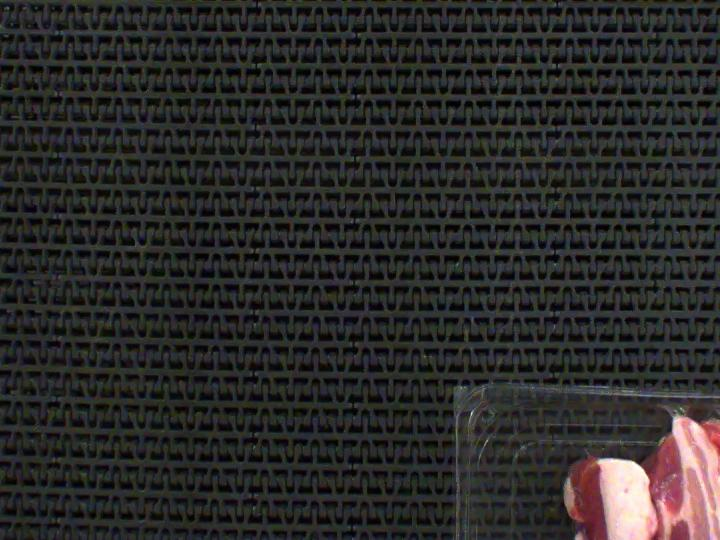packaging-error: (657, 396, 697, 421)
